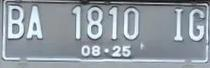0: (120, 4, 142, 40)
1: (105, 4, 121, 40), (70, 4, 84, 41)
8: (83, 4, 105, 40)
A: (26, 4, 44, 40)
B: (7, 3, 26, 41)
G: (185, 7, 206, 43)
I: (173, 6, 185, 43)
